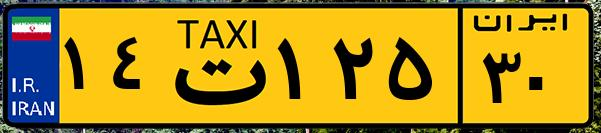0: (525, 38, 570, 115)
1: (270, 28, 330, 110), (57, 26, 110, 100)
2: (330, 28, 385, 110)
3: (475, 38, 525, 113)
4: (110, 28, 158, 98)
5: (385, 28, 445, 110)
ت: (158, 12, 270, 120)
